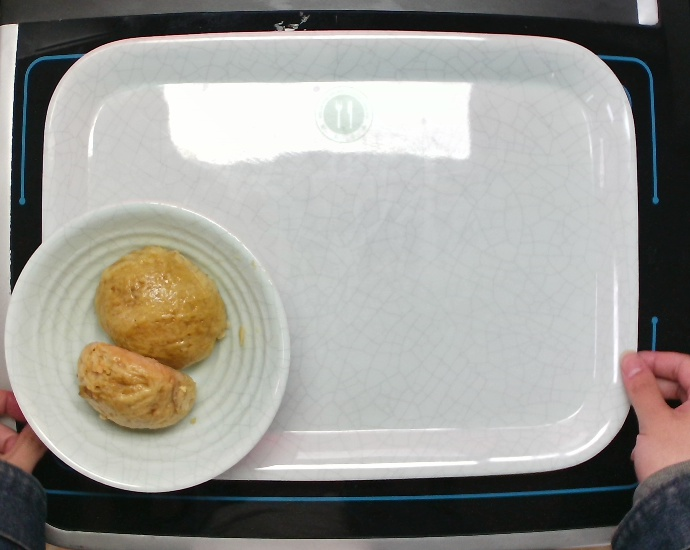JYsf-Xiao_Tang_Wan: (1, 195, 296, 495)
